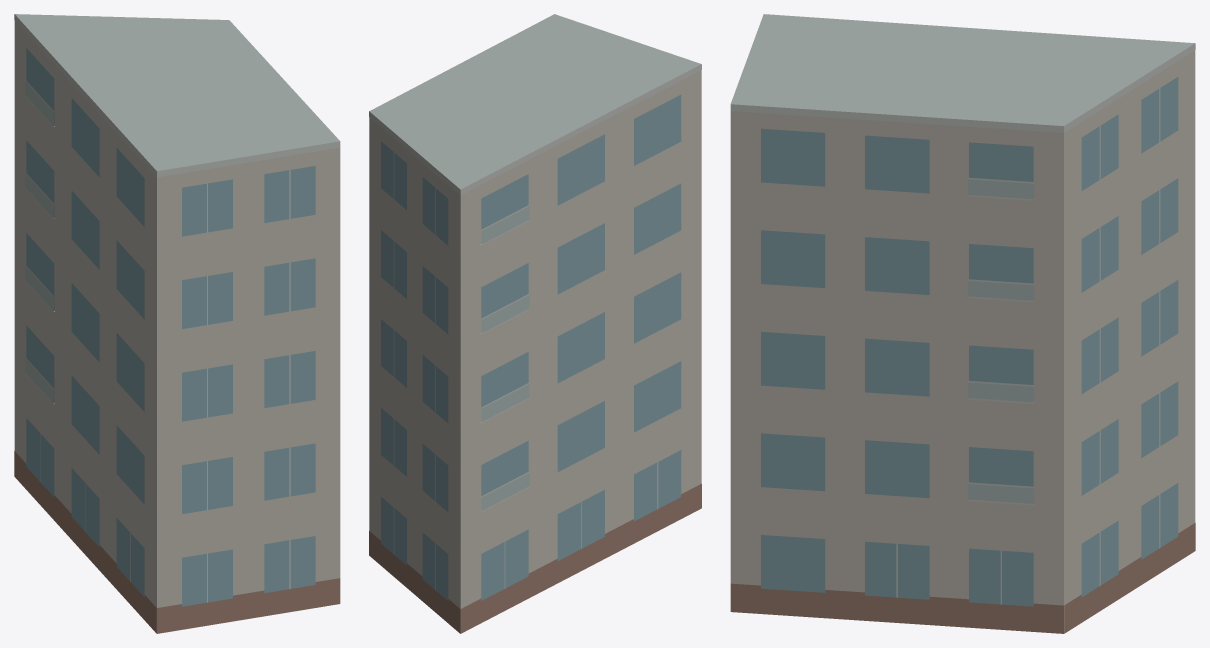
The model's file is survey-upis-32686071.glb.
3 renders of one model, left to right at view 1: azimuth 30°, elevation 25°; view 2: azimuth 150°, elevation 25°; view 3: azimuth 270°, elevation 25°, orthographic. The views are drawn at different scales.
Visible parts, largest first — view 1: survey-upis-32686071.tmp; view 2: survey-upis-32686071.tmp; view 3: survey-upis-32686071.tmp.
Part boxes in pixels (x1,y1,x2,y2): survey-upis-32686071.tmp: (14, 14, 340, 633); survey-upis-32686071.tmp: (369, 14, 701, 633); survey-upis-32686071.tmp: (730, 14, 1195, 633).
Bounding box in the file's own units: 8.62 × 18.17 × 15.09.
